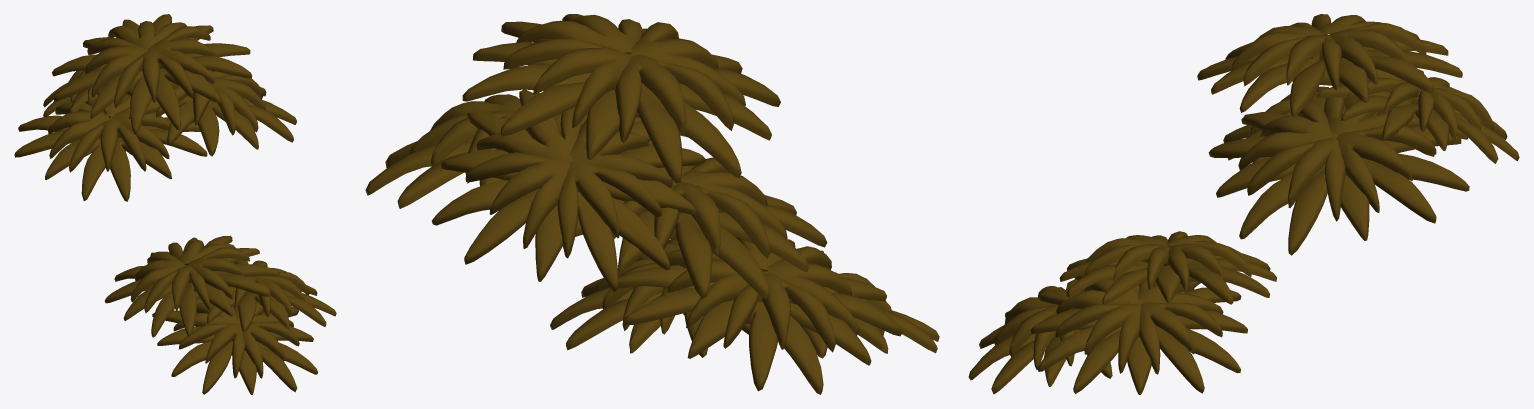
Rendered from TreeLeavesTextured.obj.
3 views of the same model, side by side, from view 1: azimuth 30°, elevation 25°; view 2: azimuth 150°, elevation 25°; view 3: azimuth 270°, elevation 25° (orthographic). The views are drawn at different scales.
Visible parts, largest first — view 1: LeavesUpper Tree Leaves07 Leaf04, LeavesUpper Tree Leaves07 Leaf01, LeavesUpper Tree Leaves03 Leaf04, LeavesUpper Tree Leaves03 Leaf01, LeavesUpper Tree Leaves07 Leaf05, LeavesUpper Tree Leaves05 Leaf04, Tree LeavesLower Leaves02 Leaf04, LeavesUpper Tree Leaves03 Leaf05, LeavesUpper Tree Leaves07 Leaf07, LeavesUpper Tree Leaf06 Leaves07, Tree Leaves01 LeavesLower Leaf04, Tree LeavesLower Leaf05 Leaves02 (+29 smaller); view 2: LeavesUpper Tree Leaves07 Leaf02, Leaf02 Leaves06 LeavesUpper Tree, LeavesUpper Tree Leaf06 Leaves07, LeavesUpper Tree Leaves07 Leaf08, Tree Leaves01 LeavesLower Leaf02, Leaves06 LeavesUpper Tree Leaf08, Leaves06 LeavesUpper Tree Leaf06, LeavesUpper Tree Leaves07 Leaf01, LeavesUpper Tree Leaves03 Leaf01, Tree Leaves01 LeavesLower Leaf01, LeavesUpper Tree Leaves03 Leaf06, Tree Leaves01 LeavesLower Leaf06 (+22 smaller); view 3: LeavesUpper Tree Leaves05 Leaf03, LeavesUpper Tree Leaves05 Leaf07, LeavesUpper Tree Leaves05 Leaf08, Tree LeavesLower Leaf03 Leaves04, LeavesUpper Tree Leaves07 Leaf03, LeavesUpper Tree Leaves05 Leaf04, Tree LeavesLower Leaves04 Leaf08, Tree LeavesLower Leaves04 Leaf07, LeavesUpper Tree Leaves07 Leaf08, LeavesUpper Tree Leaves07 Leaf07, LeavesUpper Tree Leaves05 Leaf05, LeavesUpper Tree Leaves07 Leaf04 (+26 smaller).
Part boxes in pixels (bbox=[...]): LeavesUpper Tree Leaves07 Leaf04: bbox=[156, 55, 252, 129]; LeavesUpper Tree Leaves07 Leaf01: bbox=[53, 68, 151, 134]; LeavesUpper Tree Leaves03 Leaf04: bbox=[110, 129, 207, 201]; LeavesUpper Tree Leaves03 Leaf01: bbox=[14, 130, 126, 200]; LeavesUpper Tree Leaves07 Leaf05: bbox=[114, 50, 193, 107]; LeavesUpper Tree Leaves05 Leaf04: bbox=[197, 101, 293, 156]; Tree LeavesLower Leaves02 Leaf04: bbox=[202, 341, 297, 394]; LeavesUpper Tree Leaves03 Leaf05: bbox=[69, 118, 146, 172]; LeavesUpper Tree Leaves07 Leaf07: bbox=[151, 26, 216, 83]; LeavesUpper Tree Leaf06 Leaves07: bbox=[84, 38, 146, 97]; Tree Leaves01 LeavesLower Leaf04: bbox=[179, 274, 269, 336]; Tree LeavesLower Leaf05 Leaves02: bbox=[178, 323, 245, 378]; LeavesUpper Tree Leaves07 Leaf02: bbox=[500, 81, 682, 183]; Leaf02 Leaves06 LeavesUpper Tree: bbox=[464, 189, 618, 291]; LeavesUpper Tree Leaf06 Leaves07: bbox=[615, 54, 733, 143]; LeavesUpper Tree Leaves07 Leaf08: bbox=[503, 38, 631, 127]; Tree Leaves01 LeavesLower Leaf02: bbox=[624, 288, 778, 391]; Leaves06 LeavesUpper Tree Leaf08: bbox=[465, 152, 579, 248]; Leaves06 LeavesUpper Tree Leaf06: bbox=[557, 160, 661, 258]; LeavesUpper Tree Leaves07 Leaf01: bbox=[636, 68, 780, 177]; LeavesUpper Tree Leaves03 Leaf01: bbox=[670, 204, 827, 299]; Tree Leaves01 LeavesLower Leaf01: bbox=[746, 293, 902, 394]; LeavesUpper Tree Leaves03 Leaf06: bbox=[654, 182, 770, 258]; Tree Leaves01 LeavesLower Leaf06: bbox=[723, 273, 835, 352]; LeavesUpper Tree Leaves05 Leaf03: bbox=[1288, 159, 1436, 255]; LeavesUpper Tree Leaves05 Leaf07: bbox=[1247, 137, 1345, 221]; LeavesUpper Tree Leaves05 Leaf08: bbox=[1336, 125, 1436, 212]; Tree LeavesLower Leaf03 Leaves04: bbox=[1073, 326, 1204, 394]; LeavesUpper Tree Leaves07 Leaf03: bbox=[1290, 56, 1433, 116]; LeavesUpper Tree Leaves05 Leaf04: bbox=[1208, 136, 1325, 239]; Tree LeavesLower Leaves04 Leaf08: bbox=[1139, 302, 1222, 374]; Tree LeavesLower Leaves04 Leaf07: bbox=[1055, 303, 1140, 373]; LeavesUpper Tree Leaves07 Leaf08: bbox=[1319, 23, 1426, 84]; LeavesUpper Tree Leaves07 Leaf07: bbox=[1243, 35, 1341, 90]; LeavesUpper Tree Leaves05 Leaf05: bbox=[1238, 101, 1333, 170]; LeavesUpper Tree Leaves07 Leaf04: bbox=[1197, 52, 1329, 112].
Bounding box in the file's own units: 3.95 × 4.04 × 5.75.
